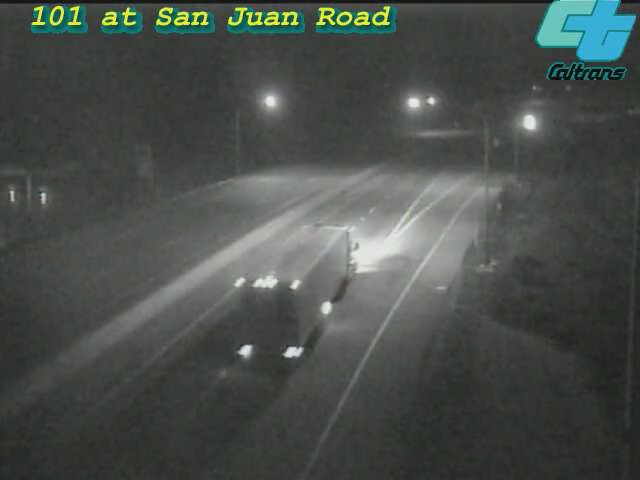vehicle: (275, 226, 355, 306), (500, 99, 550, 149)
